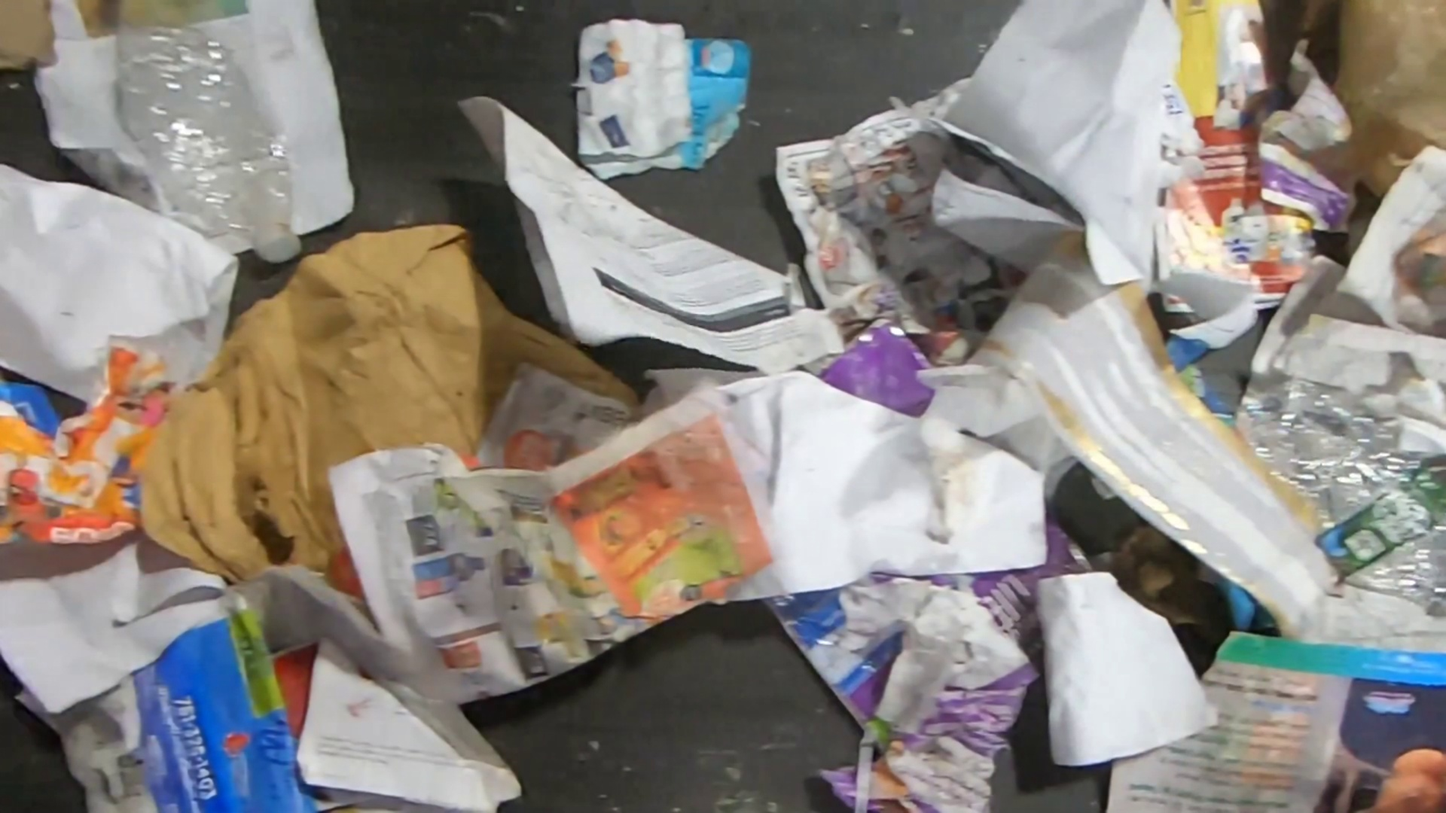cardboard: (908, 506, 1102, 708), (757, 583, 906, 729), (813, 316, 938, 423)
plastic: (1233, 373, 1446, 620), (115, 20, 303, 264), (1332, 0, 1446, 205)
